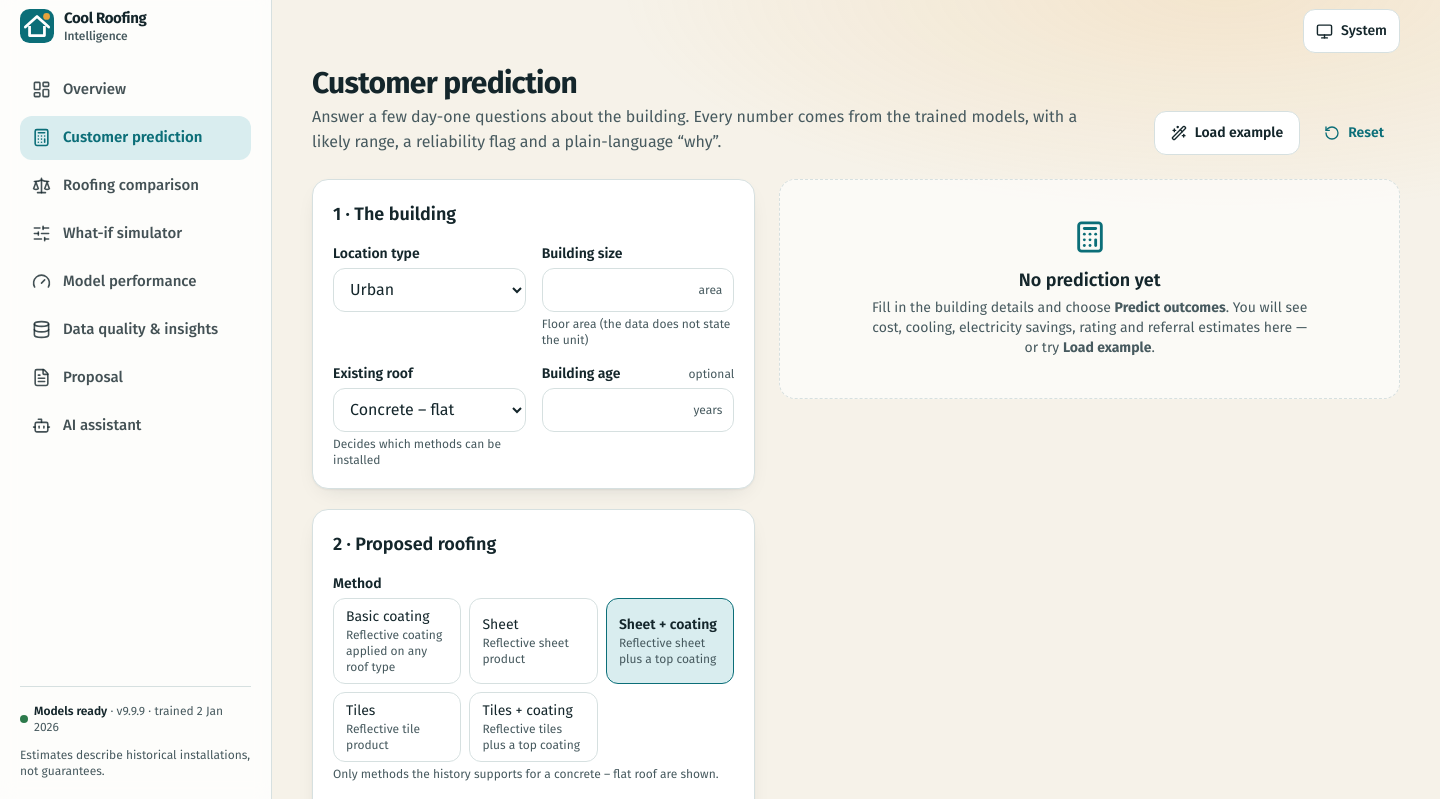
Test: customer prediction › shows a readable error with retry when the service returns 503, and no fake values
This screenshot has width=1440, height=799.
Click the button "Load example" at (1227, 133), box [1154, 111, 1300, 155]
(page scrolled)
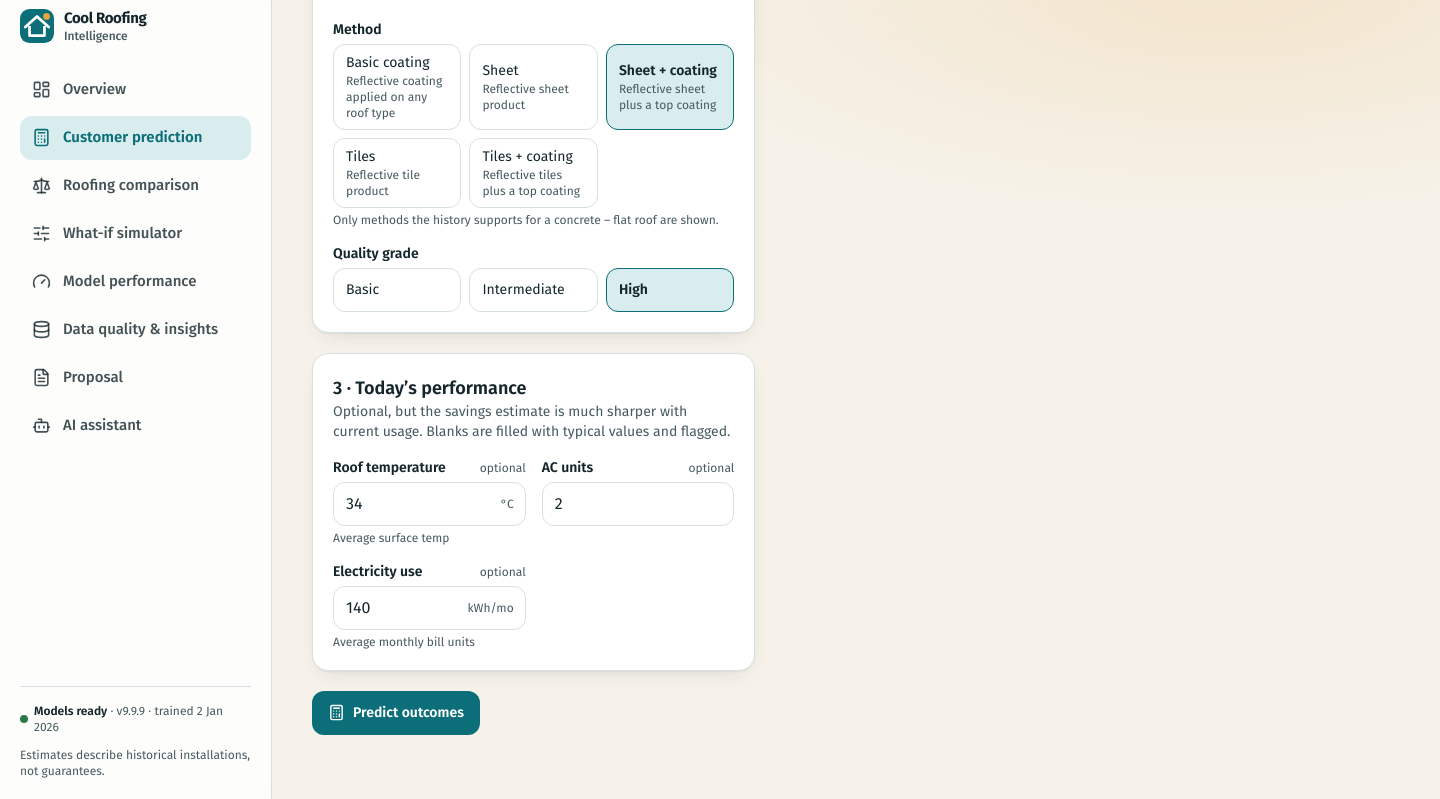
Click the button "Predict outcomes" at (396, 713), box [312, 691, 480, 735]
(page scrolled)
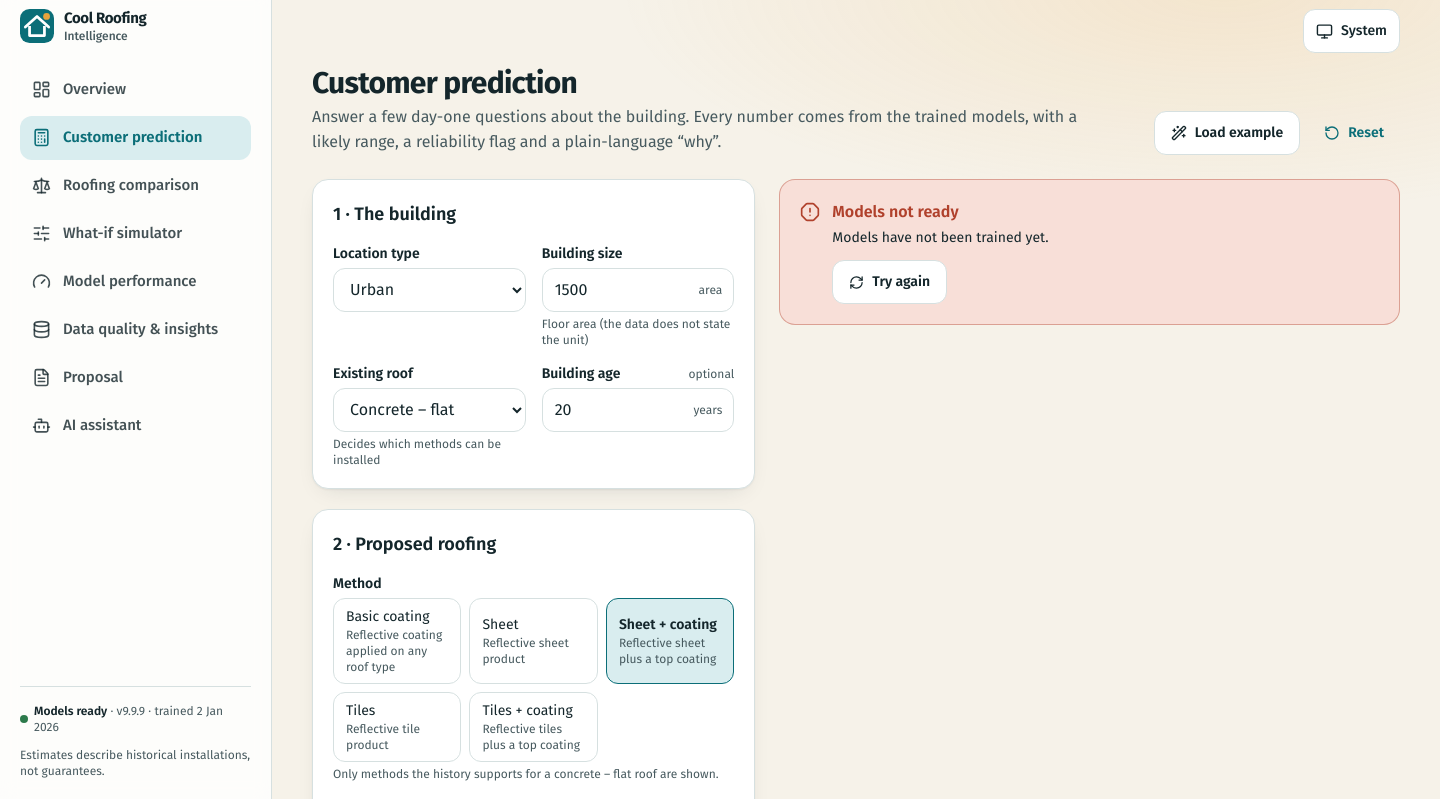
Check: the text "Models not ready" is shown, box [832, 202, 959, 221]
Check: the text "Models have not been trained yet." is shown, box [832, 228, 1048, 248]
Check: the button "Try again" is shown, box [832, 260, 947, 304]
